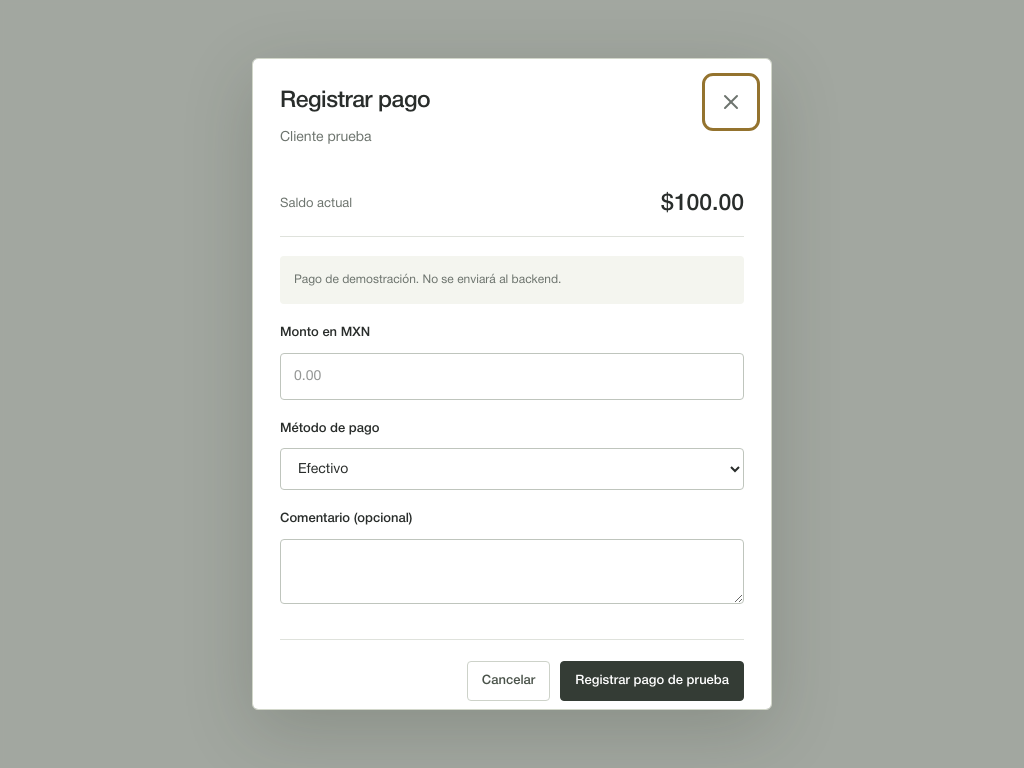
Test: avisa que lo que pasa del saldo quedará a favor
In the field labelled "Monto en MXN": coordinates (512, 376) [280,353,744,400], type "100.01"
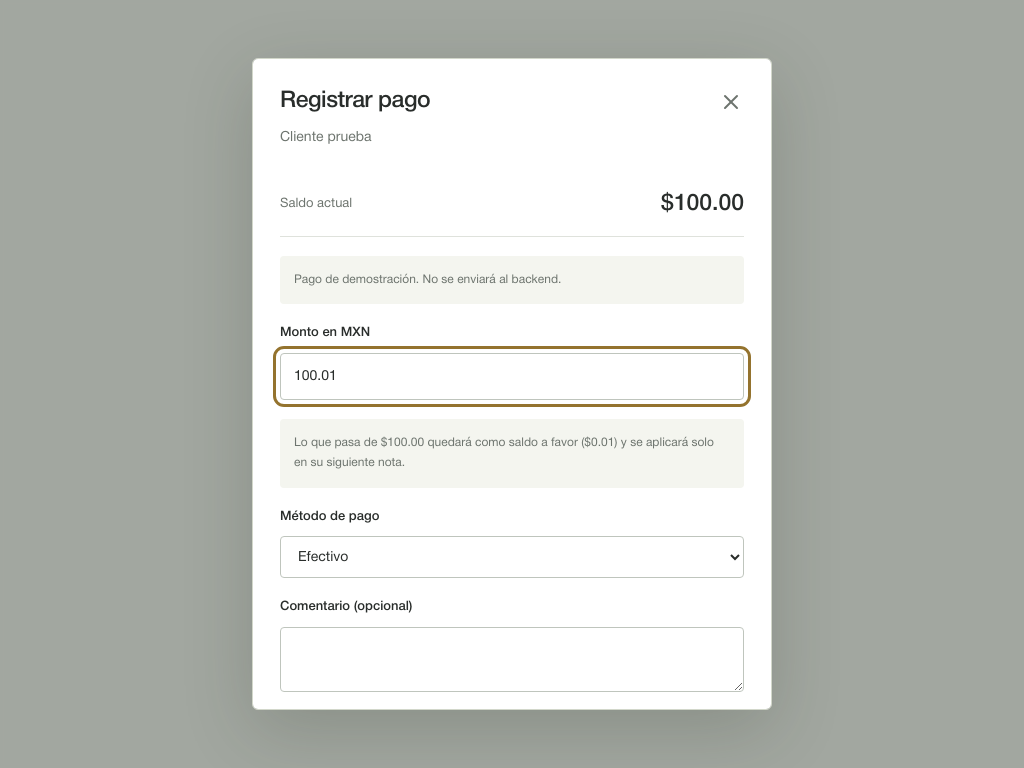
expect the text "quedará como saldo a favor" shows "$0.01": met, box [584,437,614,448]
